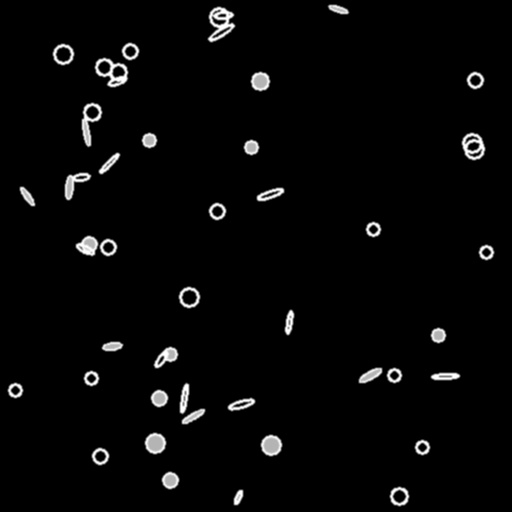pseudomonas: (207, 21, 235, 43), (98, 152, 120, 174), (357, 366, 383, 384), (181, 407, 205, 425), (256, 187, 284, 201), (228, 397, 254, 411), (153, 349, 169, 369), (19, 186, 35, 206), (179, 383, 189, 413), (81, 118, 91, 146), (75, 242, 95, 256), (107, 75, 127, 87), (64, 175, 74, 199), (285, 310, 293, 334), (103, 341, 121, 351), (329, 4, 347, 14), (72, 172, 90, 182), (431, 373, 459, 379), (233, 489, 243, 505), (213, 11, 233, 19)
synechocystis: (262, 436, 280, 454), (54, 45, 72, 63), (463, 134, 481, 152), (210, 8, 228, 26), (180, 288, 198, 306), (465, 140, 483, 158), (146, 434, 164, 452), (391, 488, 407, 504), (252, 73, 268, 89), (84, 104, 100, 120), (96, 59, 112, 75), (110, 64, 126, 80), (101, 240, 115, 254), (152, 391, 166, 405), (210, 204, 224, 218), (123, 44, 137, 58), (468, 73, 482, 87), (163, 473, 177, 487), (82, 237, 96, 251), (93, 449, 107, 463), (85, 372, 97, 384), (416, 441, 428, 453), (143, 134, 155, 146), (480, 246, 492, 258), (245, 141, 257, 153), (432, 329, 444, 341), (367, 223, 379, 235), (388, 369, 400, 381), (164, 348, 176, 360), (9, 384, 21, 396)
